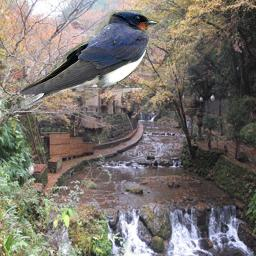Swallow: (1, 10, 159, 120)
